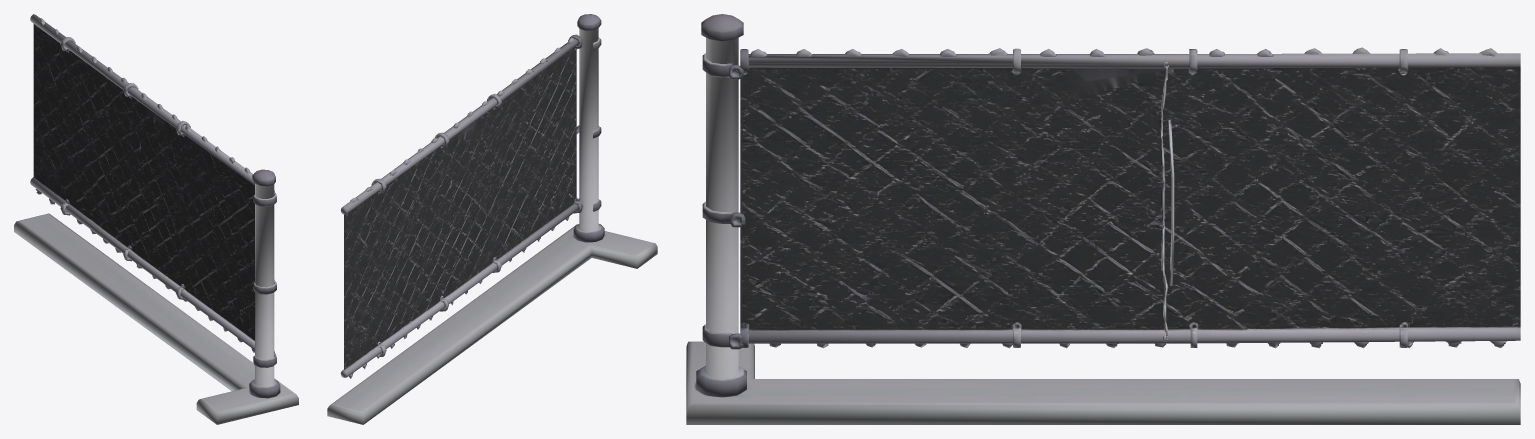
Rendered from selected.glb.
3 renders of one model, left to right at view 1: azimuth 30°, elevation 25°; view 2: azimuth 150°, elevation 25°; view 3: azimuth 270°, elevation 25°, orthographic. The views are drawn at different scales.
Parts seen in each view (by area): view 1: tripo_node_e7feb1f9-4e98-4d5d-91eb-73d8564c9261; view 2: tripo_node_e7feb1f9-4e98-4d5d-91eb-73d8564c9261; view 3: tripo_node_e7feb1f9-4e98-4d5d-91eb-73d8564c9261.
Part boxes in pixels (x1,y1,x2,y2): tripo_node_e7feb1f9-4e98-4d5d-91eb-73d8564c9261: [14, 14, 298, 424]; tripo_node_e7feb1f9-4e98-4d5d-91eb-73d8564c9261: [327, 14, 657, 424]; tripo_node_e7feb1f9-4e98-4d5d-91eb-73d8564c9261: [686, 14, 1520, 424].
Bounding box in the file's own units: 0.1895 × 0.5137 × 0.998.
1 material, 1 textured.
